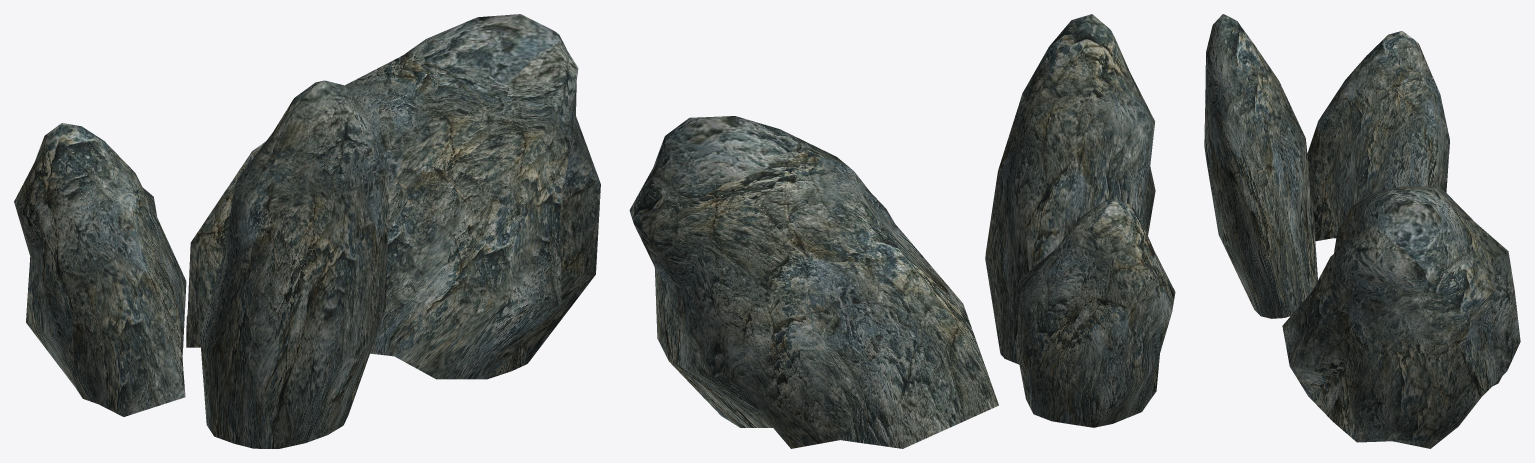
Rendered from rockBlobSix.FBX.
The picture shows the model from 3 angles, left to right: view 1: azimuth 30°, elevation 25°; view 2: azimuth 150°, elevation 25°; view 3: azimuth 270°, elevation 25°; orthographic projection. The views are drawn at different scales.
Visible parts, largest first — view 1: polySurface1; view 2: polySurface1; view 3: polySurface1.
Part boxes in pixels (box(x1,y1,x2,y2)): polySurface1: box(14, 14, 600, 448); polySurface1: box(629, 14, 1175, 448); polySurface1: box(1204, 14, 1520, 448).
Size of the model in its own units: 35.34 by 22.01 by 25.18.
